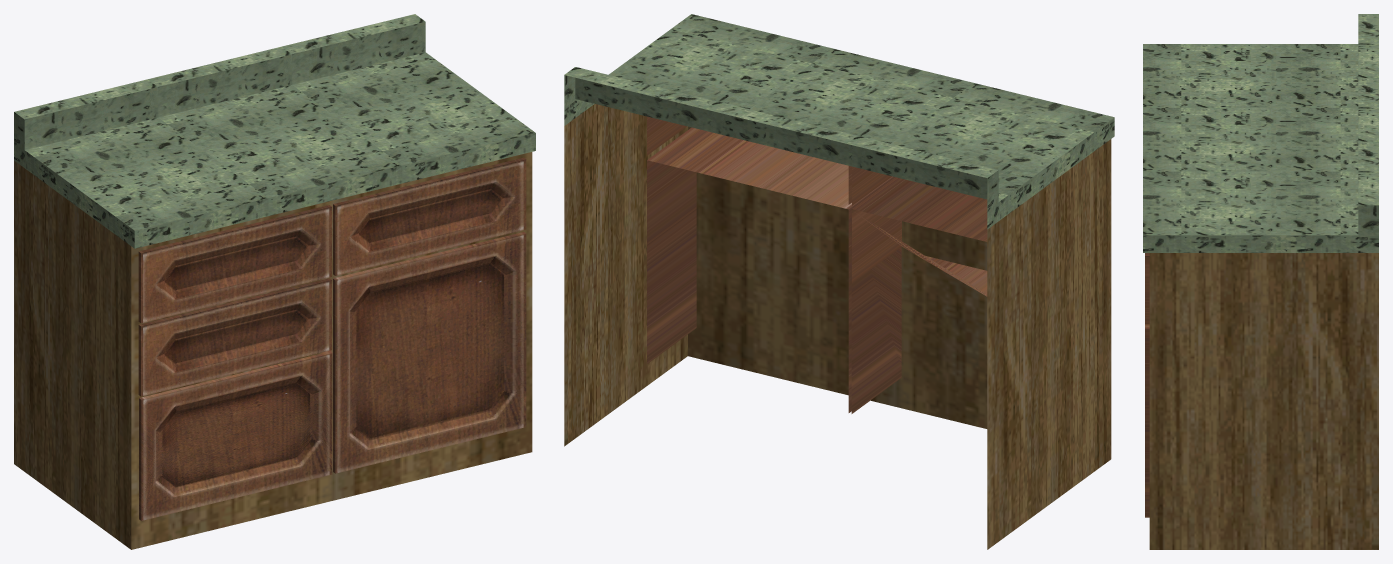
Rendered from cj_k6_low_unit2.obj.
The picture shows the model from 3 angles, left to right: view 1: azimuth 30°, elevation 25°; view 2: azimuth 150°, elevation 25°; view 3: azimuth 270°, elevation 25°; orthographic projection. The views are drawn at different scales.
Visible parts, largest first — view 1: CJ_K6_LOW_UNIT2; view 2: CJ_K6_LOW_UNIT2; view 3: CJ_K6_LOW_UNIT2.
Part boxes in pixels (bbox=[...]): CJ_K6_LOW_UNIT2: bbox=[14, 14, 535, 549]; CJ_K6_LOW_UNIT2: bbox=[564, 14, 1114, 549]; CJ_K6_LOW_UNIT2: bbox=[1143, 14, 1378, 549].
Size of the model in its own units: 1.37 by 1.15 by 0.7152.
